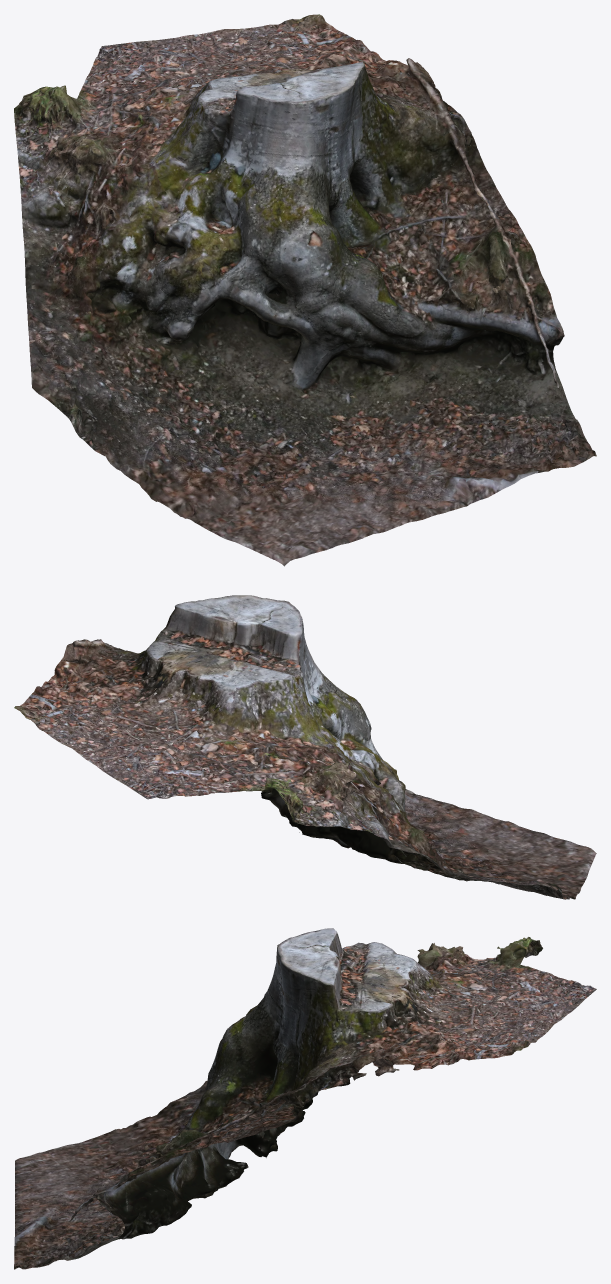
File: sf-scanned-tree-trunk-f26e87.glb
3 views of the same model, one above another, from view 1: azimuth 30°, elevation 25°; view 2: azimuth 150°, elevation 25°; view 3: azimuth 270°, elevation 25° (orthographic). The views are drawn at different scales.
Parts seen in each view (by area): view 1: trunk_section_2_material_0_0; view 2: trunk_section_2_material_0_0; view 3: trunk_section_2_material_0_0.
Boxes of the visible parts, x1=… form: trunk_section_2_material_0_0: x1=14, y1=14, x2=596, y2=566; trunk_section_2_material_0_0: x1=14, y1=595, x2=596, y2=899; trunk_section_2_material_0_0: x1=14, y1=928, x2=596, y2=1269.
Size of the model in its own units: 3.94 by 2.65 by 4.79.
Materials: 1 (1 with a texture image).
